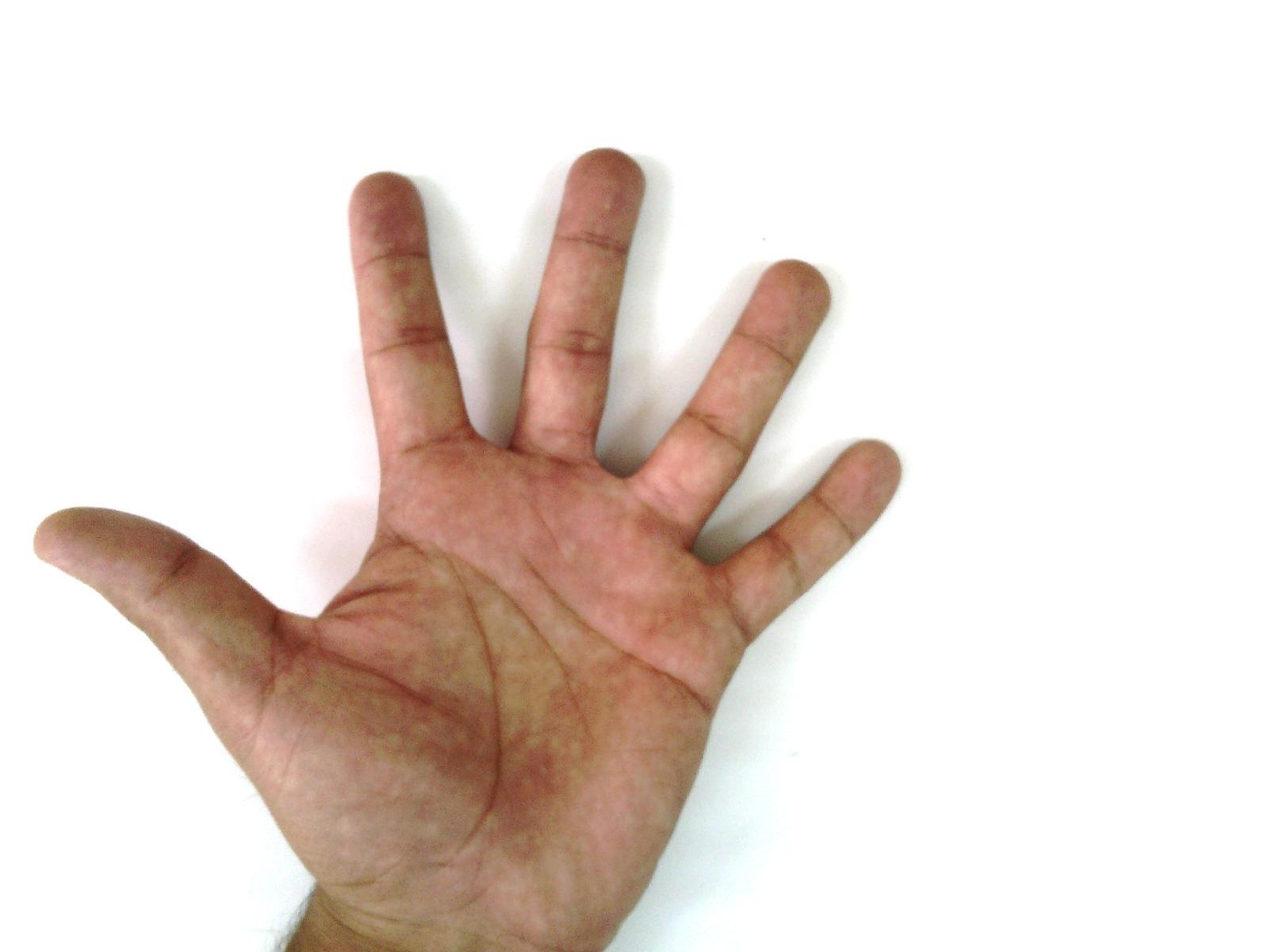open_palm: (33, 147, 906, 950)
